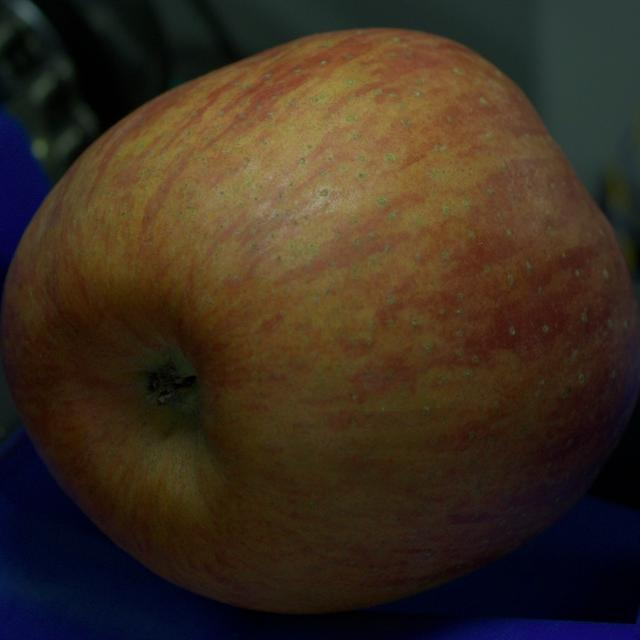apple: (0, 29, 639, 613)
